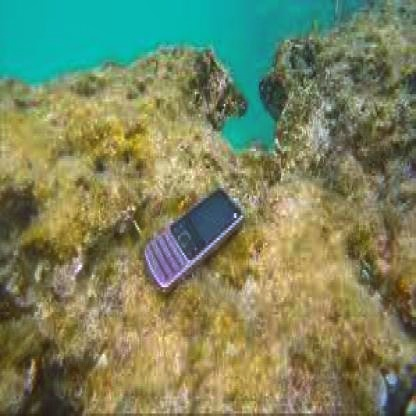cellphone: (148, 176, 244, 290)
